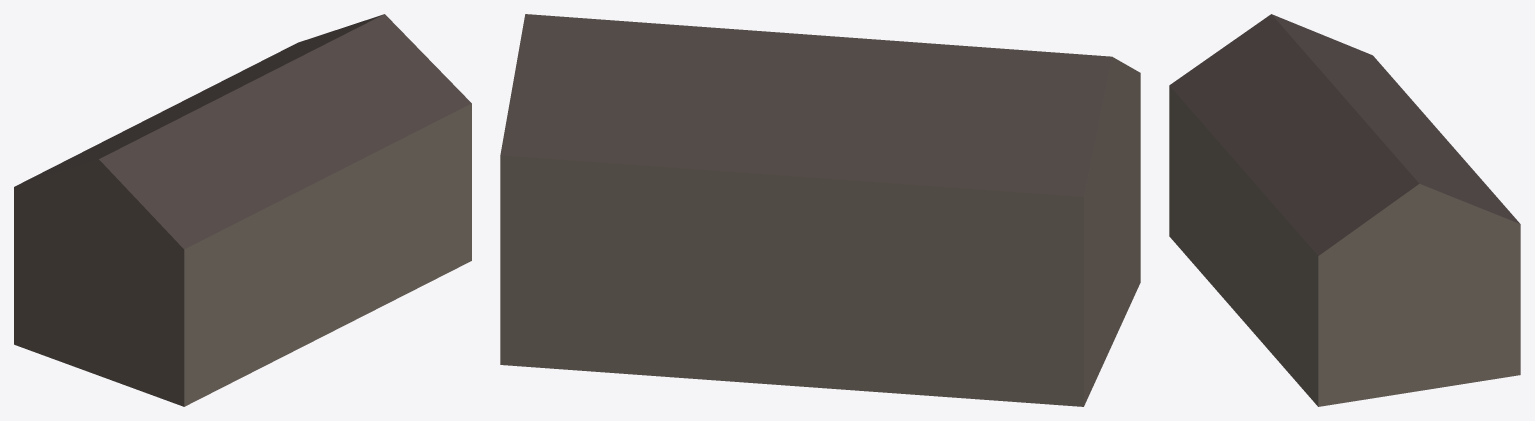
The picture shows the model from 3 angles, left to right: view 1: azimuth 30°, elevation 25°; view 2: azimuth 150°, elevation 25°; view 3: azimuth 270°, elevation 25°; orthographic projection. The views are drawn at different scales.
Visible parts, largest first — view 1: HP-w378107163; view 2: HP-w378107163; view 3: HP-w378107163.
Boxes of the visible parts, x1,y1,x2,y2 form: HP-w378107163: (14, 14, 471, 406); HP-w378107163: (500, 14, 1140, 406); HP-w378107163: (1169, 14, 1520, 406).
Size of the model in its own units: 17.12 by 8.25 by 12.68.
